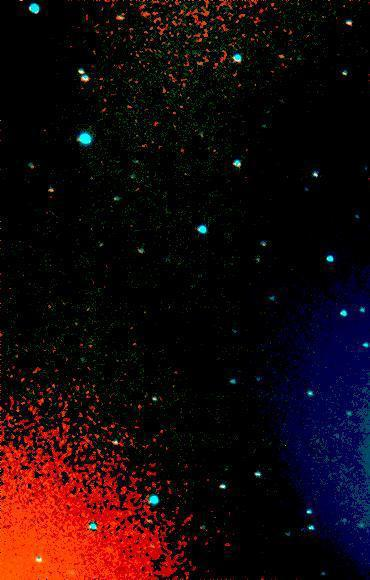star: (300, 425, 330, 455)
